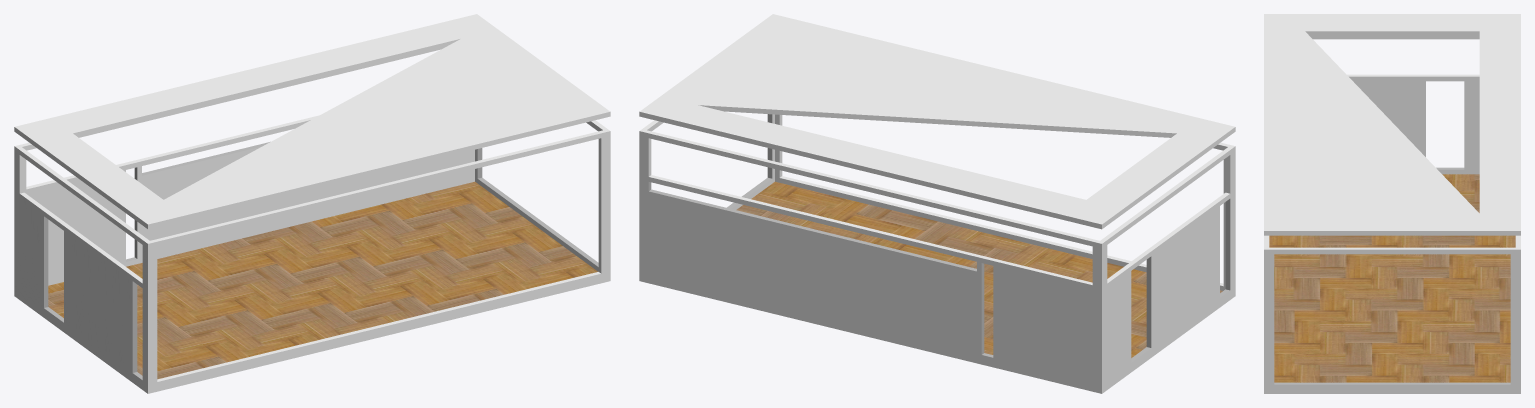
The picture shows the model from 3 angles, left to right: view 1: azimuth 30°, elevation 25°; view 2: azimuth 150°, elevation 25°; view 3: azimuth 270°, elevation 25°; orthographic projection. The views are drawn at different scales.
Visible parts, largest first — view 1: SketchUp (×10), group_0; view 2: SketchUp (×10), group_0; view 3: SketchUp (×6), group_0.
Boxes of the visible parts, <box> form: SketchUp (×10): <box>14,14,610,393</box>; group_0: <box>22,48,602,285</box>; SketchUp (×10): <box>639,14,1235,393</box>; group_0: <box>647,114,1227,290</box>; SketchUp (×6): <box>1264,14,1520,393</box>; group_0: <box>1310,36,1479,174</box>.
Size of the model in its own units: 1575 by 787 by 551.
Materials: 4 (1 with a texture image).
